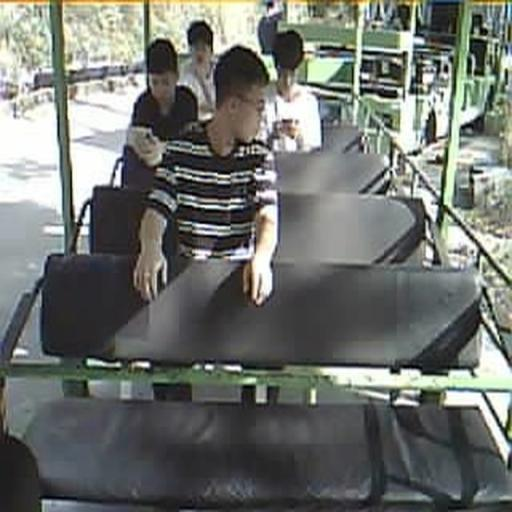persona: (132, 44, 280, 308), (123, 37, 199, 190), (260, 28, 323, 154), (180, 19, 218, 122)
